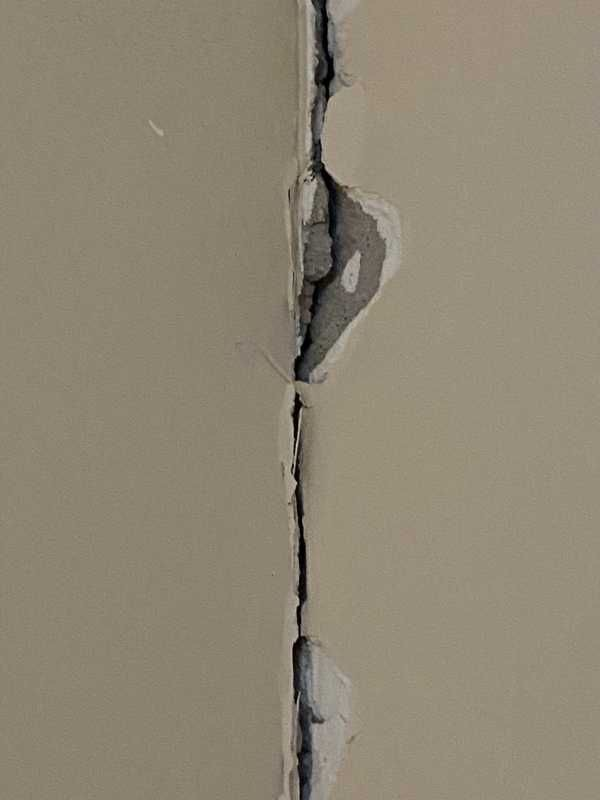Medium: (198, 10, 428, 783)
